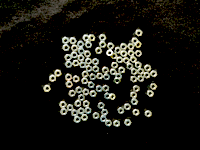nut: (43, 85, 52, 93), (54, 70, 62, 78), (62, 37, 70, 45), (65, 61, 73, 69), (65, 54, 73, 62), (81, 78, 89, 86), (85, 58, 93, 66), (85, 41, 93, 49), (105, 120, 113, 128), (95, 47, 103, 55), (99, 41, 107, 49), (133, 85, 141, 93), (120, 43, 128, 51), (135, 50, 143, 58), (49, 75, 56, 83), (60, 109, 68, 116), (59, 102, 67, 109), (63, 44, 70, 52), (69, 90, 76, 98), (66, 81, 73, 89), (65, 74, 73, 81), (73, 76, 80, 84), (71, 110, 79, 117), (74, 116, 81, 124), (72, 60, 80, 67), (71, 45, 79, 52), (76, 87, 83, 95), (75, 100, 82, 108), (78, 108, 85, 116), (81, 115, 89, 122), (85, 107, 92, 115), (83, 89, 90, 97), (82, 71, 89, 79), (78, 48, 86, 55), (77, 41, 85, 48), (86, 65, 93, 73), (84, 51, 92, 58), (93, 58, 100, 66), (93, 112, 100, 120), (103, 85, 110, 93), (101, 110, 109, 117), (100, 116, 108, 123), (114, 120, 121, 128), (103, 74, 111, 81), (102, 67, 110, 74), (99, 34, 107, 41), (107, 43, 115, 50), (115, 47, 122, 55), (111, 62, 119, 69), (119, 67, 126, 75), (118, 107, 125, 115), (124, 104, 132, 111), (124, 120, 132, 127), (133, 109, 140, 117), (131, 99, 139, 106), (130, 92, 138, 99), (147, 91, 155, 98), (150, 84, 158, 91), (131, 76, 138, 84), (127, 63, 134, 71), (131, 68, 138, 76), (128, 43, 135, 51), (135, 41, 142, 49), (128, 50, 136, 57), (131, 56, 138, 64), (138, 68, 145, 76), (144, 72, 151, 80), (67, 105, 74, 112), (71, 52, 78, 59), (70, 38, 77, 45), (78, 95, 85, 102), (83, 101, 90, 108), (80, 62, 87, 69), (78, 55, 85, 62), (89, 35, 96, 42), (88, 82, 95, 89), (90, 74, 97, 81), (93, 66, 100, 73), (90, 91, 97, 98), (96, 86, 103, 93), (109, 94, 116, 101), (98, 103, 105, 110), (97, 73, 104, 80), (107, 50, 114, 57), (111, 53, 118, 60), (110, 69, 117, 76), (114, 78, 121, 85), (116, 73, 123, 80), (117, 57, 124, 64), (145, 111, 152, 118), (138, 76, 145, 83), (121, 51, 128, 58), (136, 30, 143, 37), (132, 38, 139, 45), (135, 62, 142, 69), (145, 65, 152, 72), (151, 71, 158, 78), (124, 57, 130, 65), (83, 35, 89, 42), (105, 93, 110, 101)
